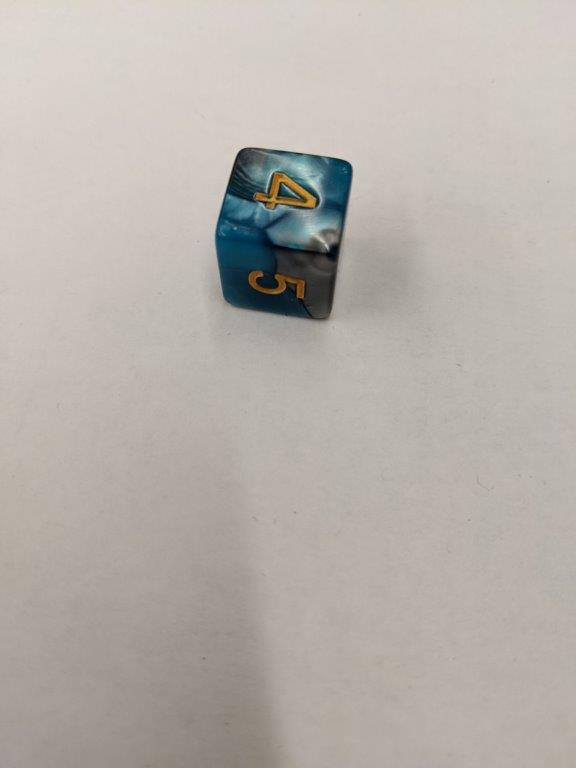d6-4: (214, 146, 357, 321)
